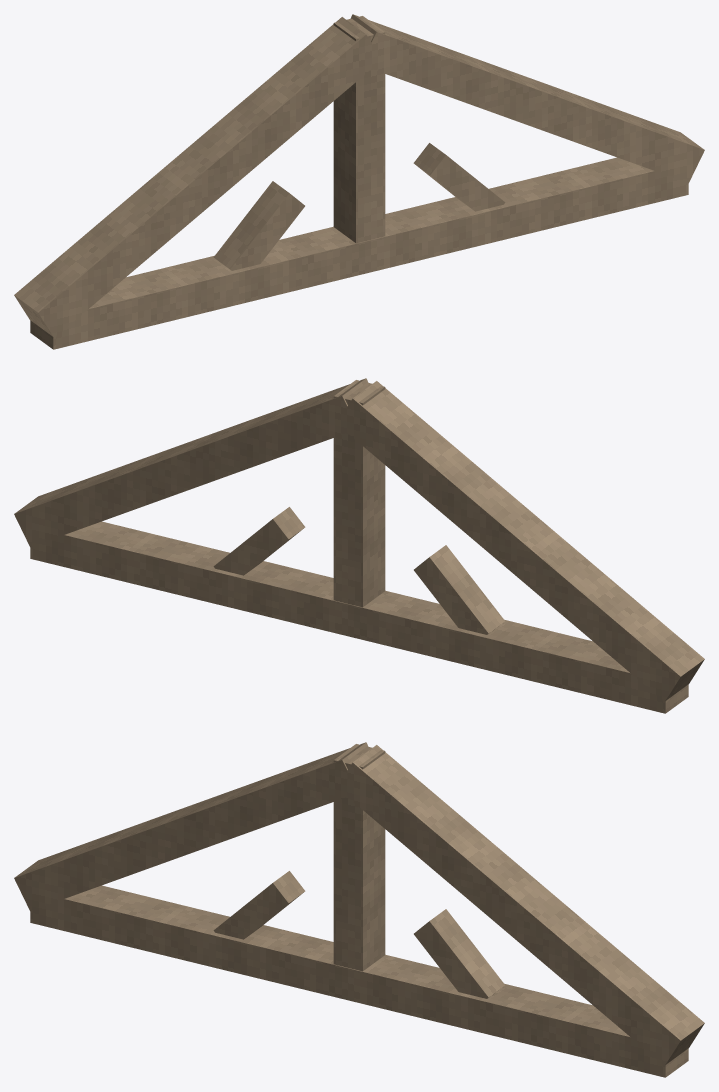
The model's file is level_blockout_timber_roof_truss.glb.
3 views of the same model, one above another, from view 1: azimuth 30°, elevation 25°; view 2: azimuth 150°, elevation 25°; view 3: azimuth 330°, elevation 25° (orthographic).
Visible parts, largest first — view 1: level_blockout_timber_roof_truss; view 2: level_blockout_timber_roof_truss; view 3: level_blockout_timber_roof_truss.
Boxes of the visible parts, x1,y1,x2,y2 form: level_blockout_timber_roof_truss: (14,14,704,349); level_blockout_timber_roof_truss: (14,378,704,713); level_blockout_timber_roof_truss: (14,742,704,1077).
Size of the model in its own units: 4.14 by 1.42 by 0.26.
Materials: 1 (1 with a texture image).
